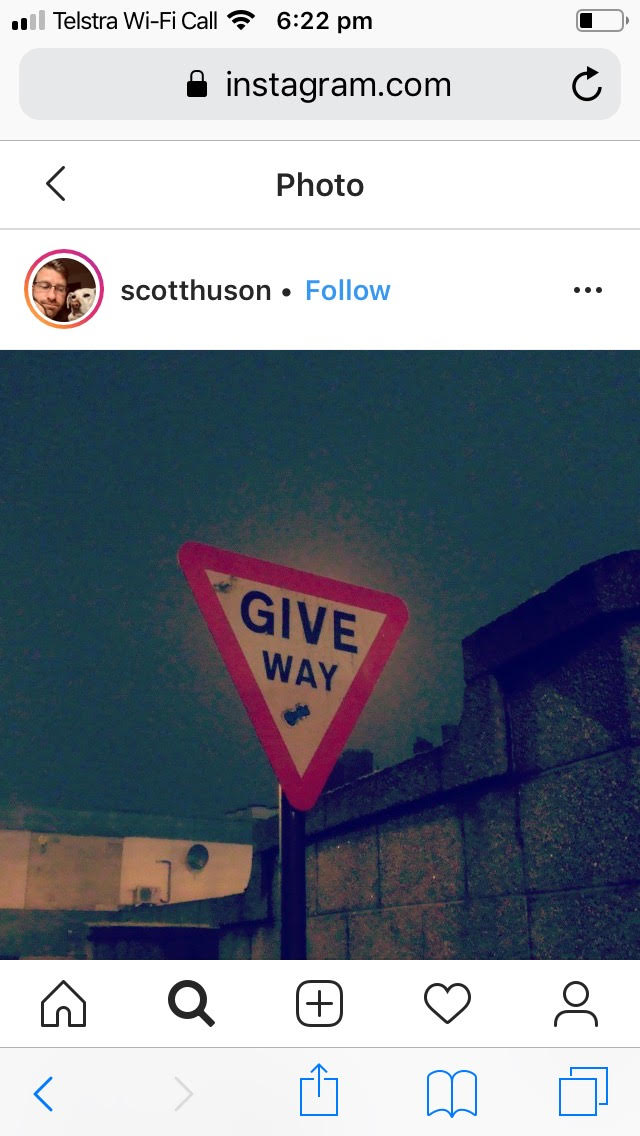giveway: (176, 544, 414, 824), (170, 545, 303, 807), (295, 561, 403, 818), (174, 548, 392, 659), (218, 639, 381, 776)
